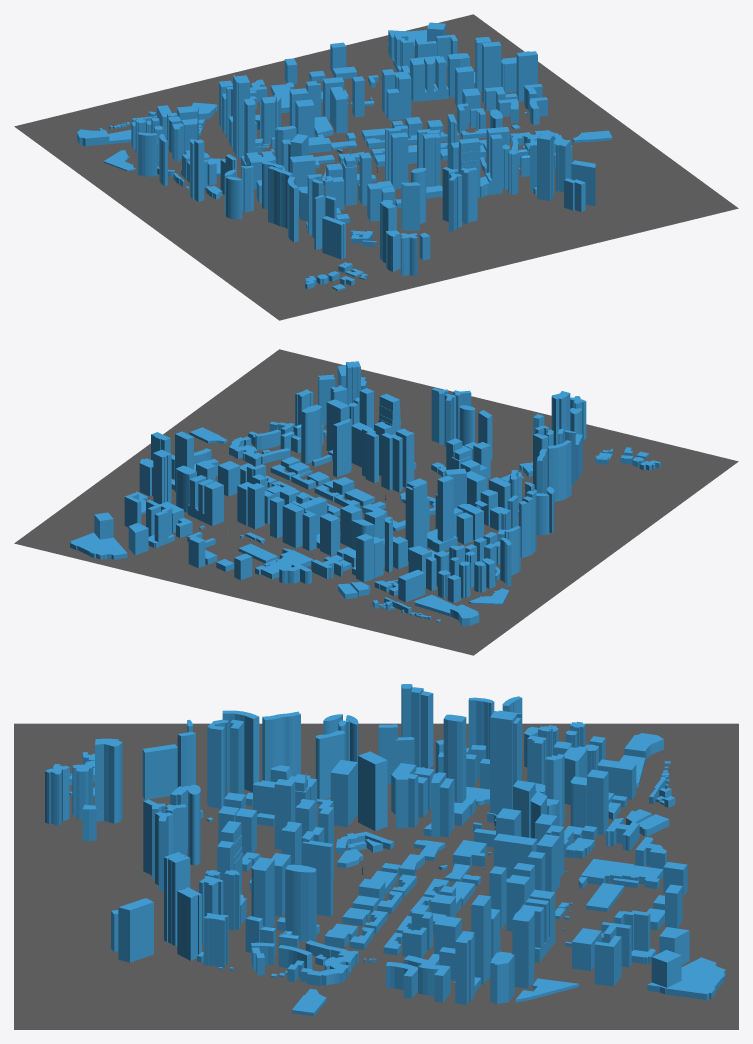
File: speedstate_manila_map_EXPORT.glb
3 renders of one model, top to bottom at view 1: azimuth 30°, elevation 25°; view 2: azimuth 150°, elevation 25°; view 3: azimuth 270°, elevation 25°, orthographic. The views are drawn at different scales.
Parts seen in each view (by area): view 1: Plane, map_3.osm_buildings; view 2: map_3.osm_buildings, Plane; view 3: map_3.osm_buildings, Plane.
Boxes of the visible parts, x1=… form: Plane: x1=14, y1=14, x2=738, y2=320; map_3.osm_buildings: x1=77, y1=22, x2=612, y2=290; map_3.osm_buildings: x1=70, y1=361, x2=660, y2=625; Plane: x1=14, y1=349, x2=738, y2=655; map_3.osm_buildings: x1=45, y1=684, x2=725, y2=1016; Plane: x1=14, y1=723, x2=738, y2=1029.
Bounding box in the file's own units: 1597 × 250 × 1597.
